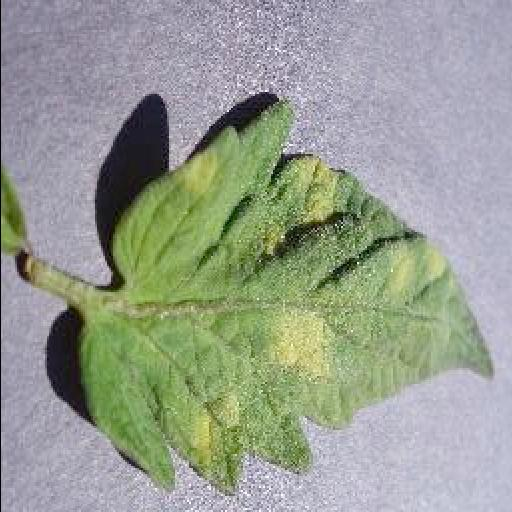disease_tomato: (78, 102, 494, 495)
